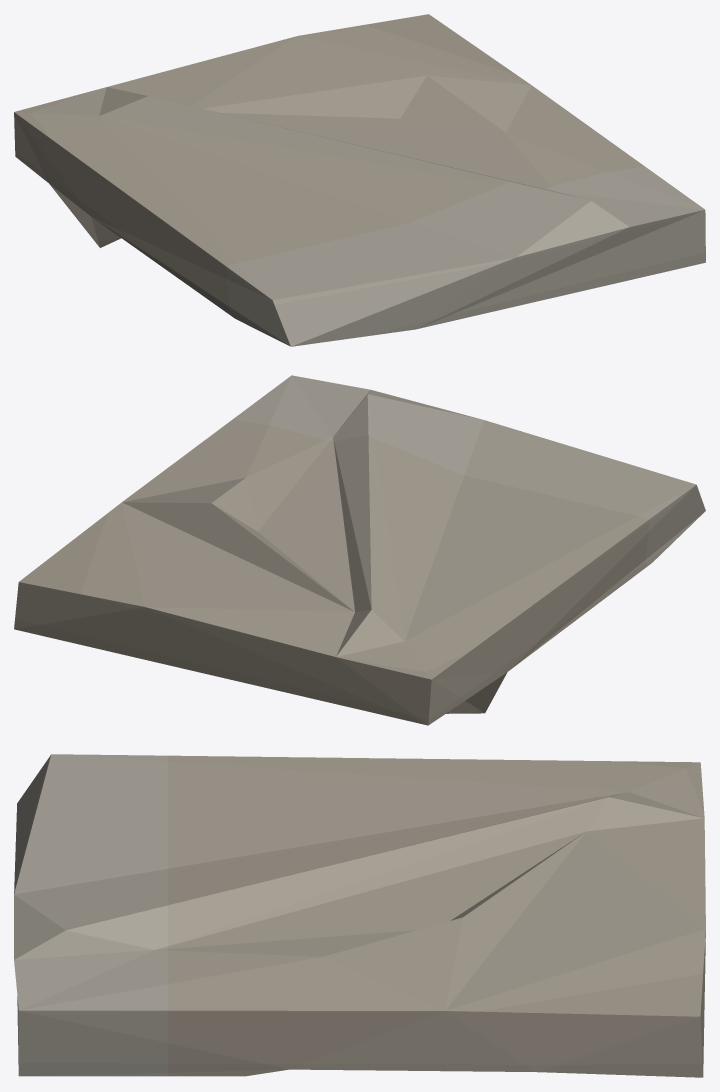
Rendered from YN_RockPlate9.fbx.
3 renders of one model, top to bottom at view 1: azimuth 30°, elevation 25°; view 2: azimuth 150°, elevation 25°; view 3: azimuth 270°, elevation 25°, orthographic. The views are drawn at different scales.
Visible parts, largest first — view 1: RockPlate9; view 2: RockPlate9; view 3: RockPlate9.
Part boxes in pixels (box(x1,y1,x2,y2)): RockPlate9: box(14, 14, 705, 346); RockPlate9: box(14, 375, 705, 725); RockPlate9: box(14, 754, 705, 1077).
Bounding box in the file's own units: 2.22 × 0.5937 × 2.54.
